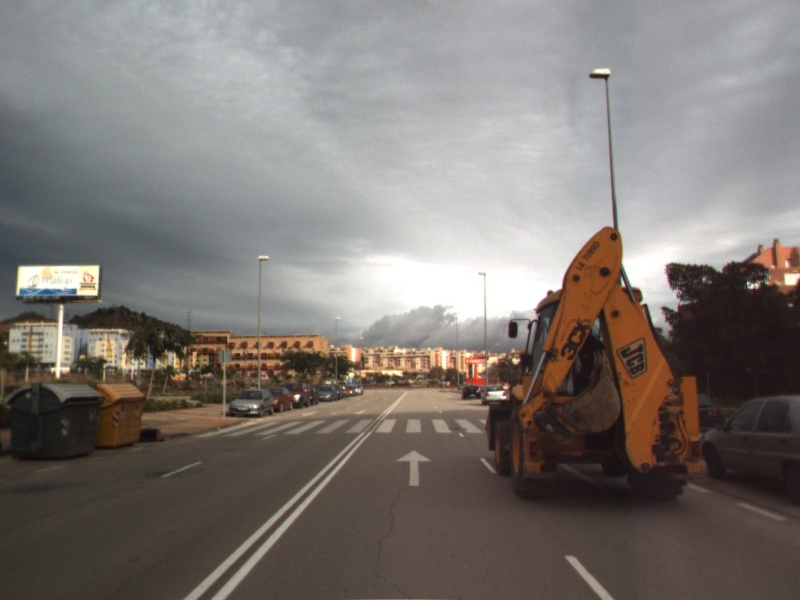STRAIGHT: (394, 448, 434, 488)
